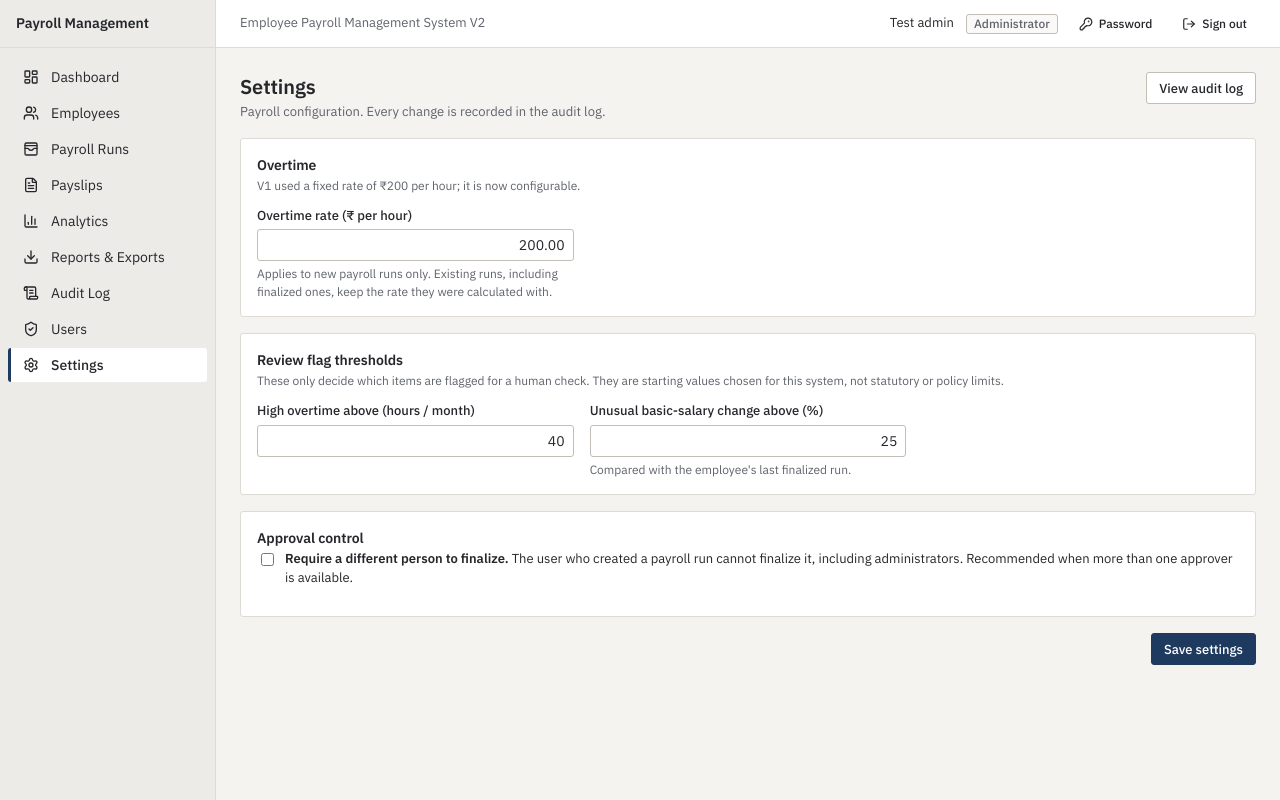
Settings › validates client-side and reports 'no changes'
The image size is (1280, 800).
Click the button "Save settings".
click(1203, 649)  # box [1151,633,1256,665]
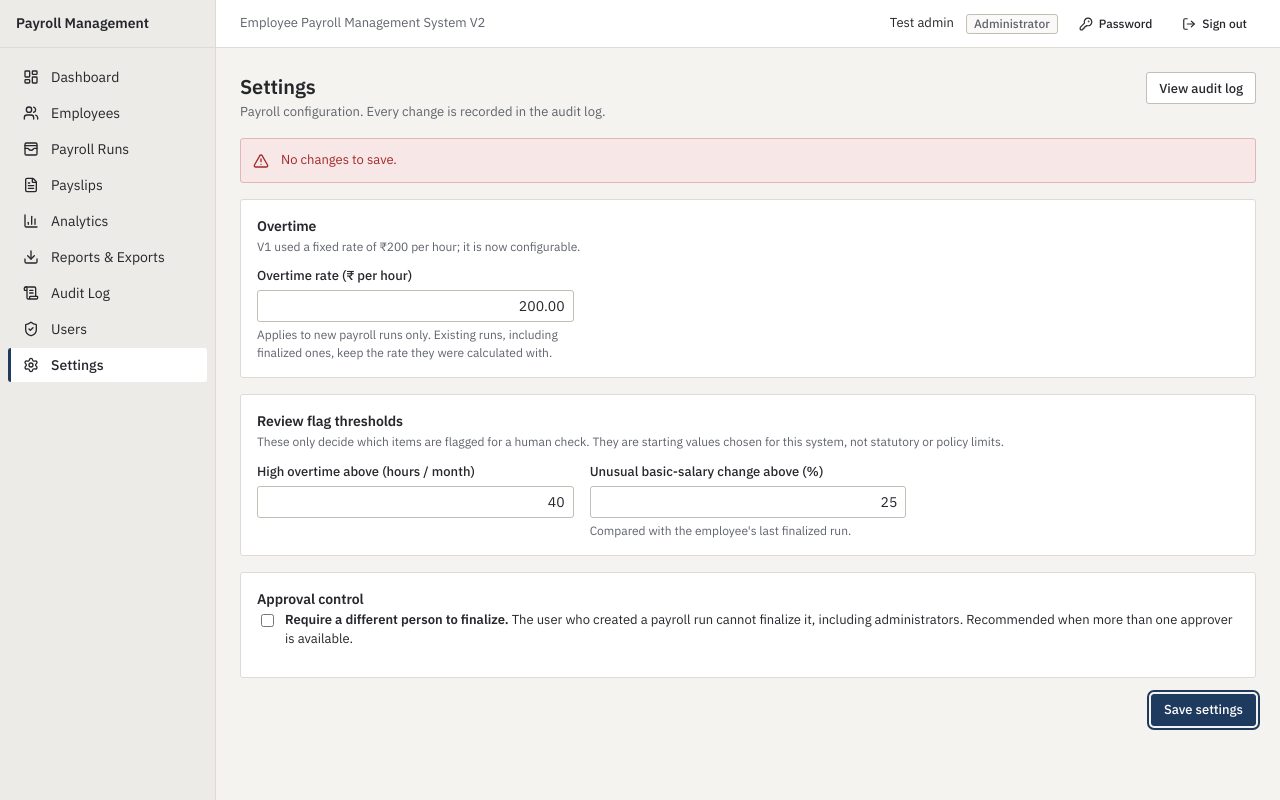
Expected: the text "No changes to save." is shown, [281,151,397,168]
Replace the text in the field labelled "Overtime rate (₹ per hour)" with "-5" at (415, 306), box [257,290,574,322]
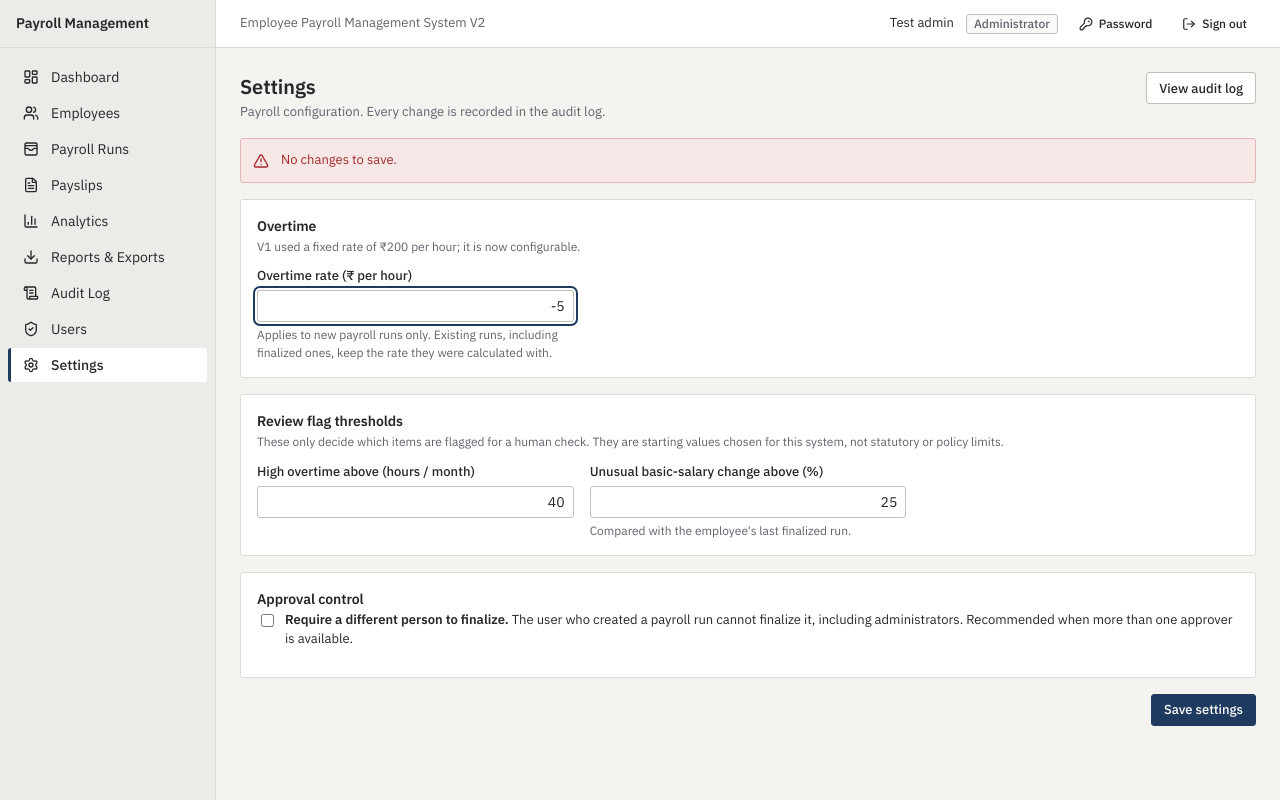
Click the button "Save settings".
click(1203, 710)  # box [1151,694,1256,726]
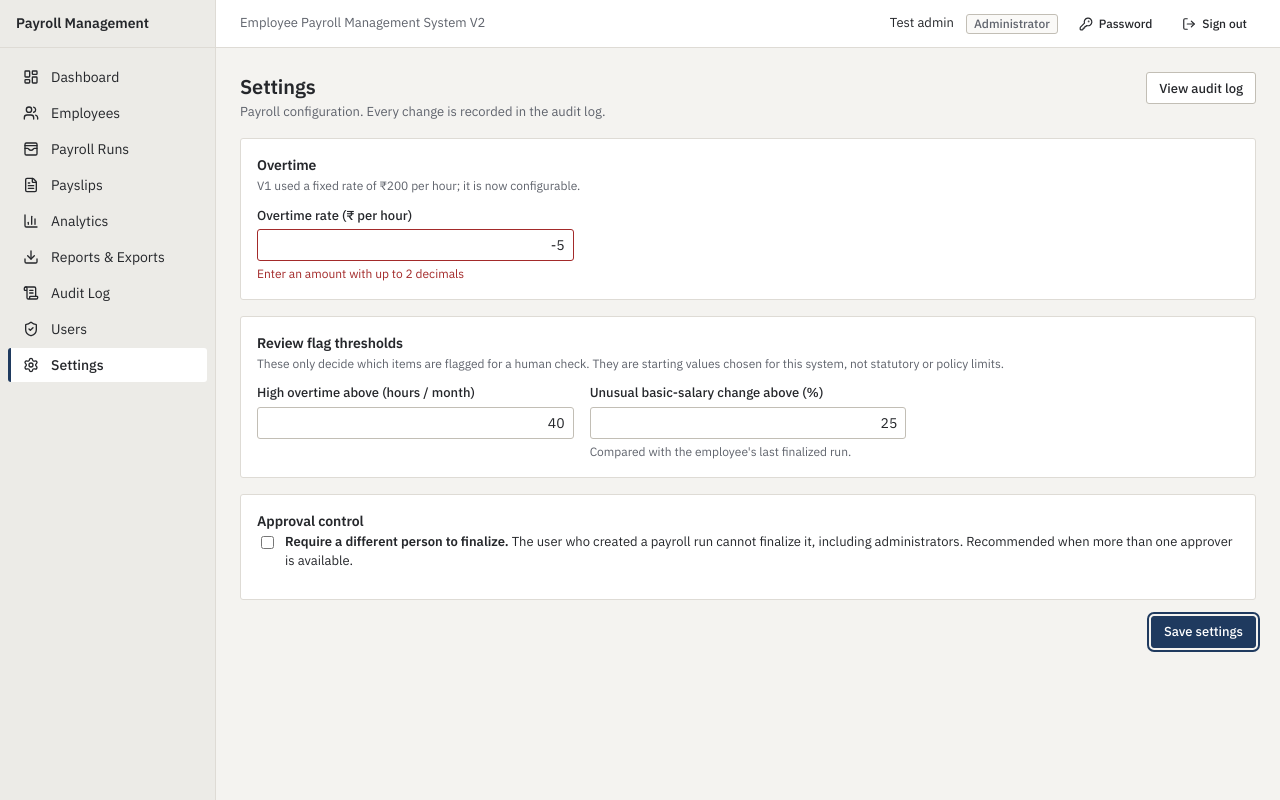
Expected: the text "Enter an amount with up to 2 decimals" is shown, [257,266,464,281]
